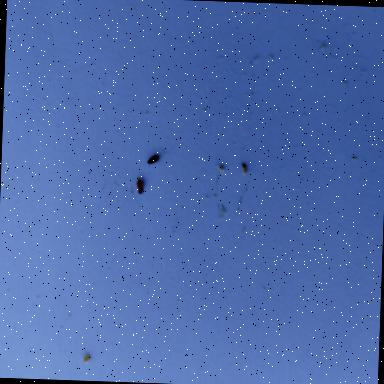pbw: (135, 178, 144, 194), (146, 154, 158, 164)
